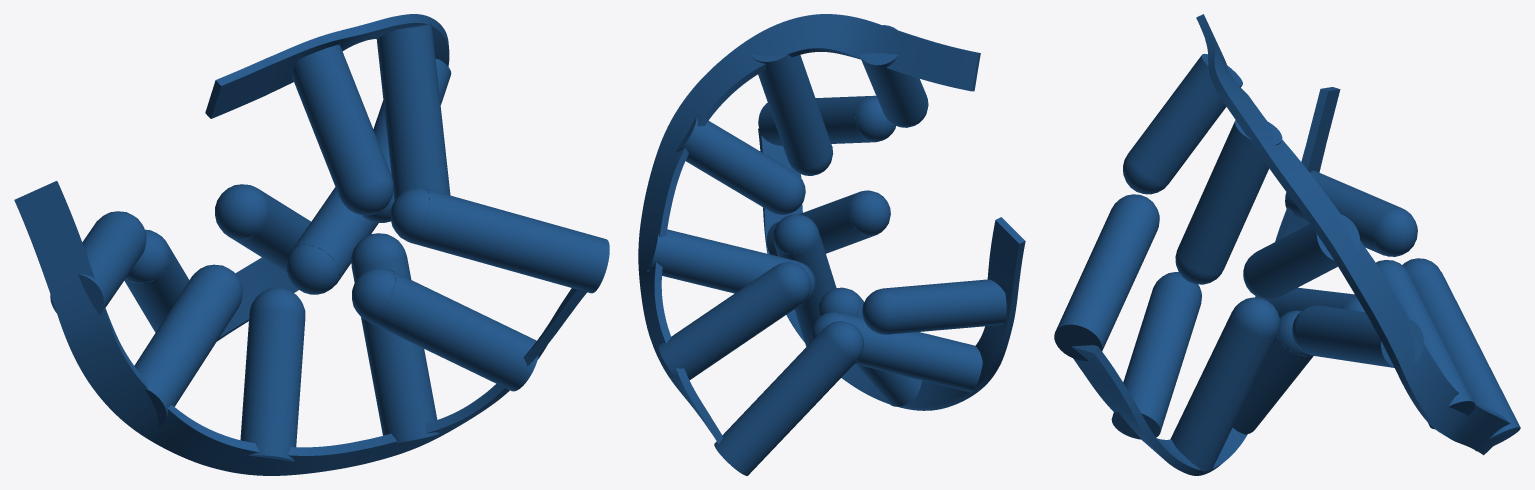
The model's file is 3DPX-000190.glb.
The picture shows the model from 3 angles, left to right: view 1: azimuth 30°, elevation 25°; view 2: azimuth 150°, elevation 25°; view 3: azimuth 270°, elevation 25°; orthographic projection. The views are drawn at different scales.
Parts seen in each view (by area): view 1: nucleotides, ribbons; view 2: nucleotides, ribbons; view 3: nucleotides, ribbons.
Boxes of the visible parts, left/top/right/bottom form: nucleotides: left=50, top=23, right=609, bottom=461; ribbons: left=14, top=14, right=587, bottom=475; nucleotides: left=646, top=25, right=1006, bottom=475; ribbons: left=638, top=14, right=1025, bottom=444; nucleotides: left=1054, top=53, right=1520, bottom=471; ribbons: left=1071, top=14, right=1510, bottom=475.
Size of the model in its own units: 22.42 by 20.91 by 22.02.
